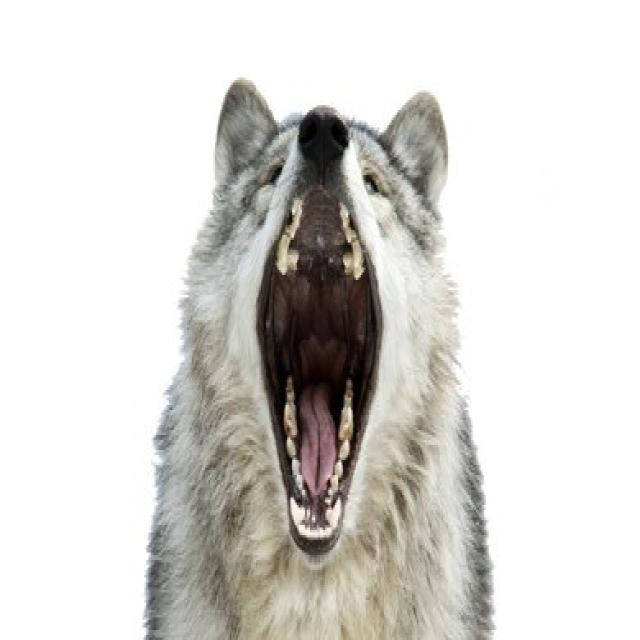angry: (131, 46, 546, 640)
